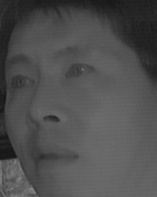eye: (61, 60, 96, 83), (5, 72, 36, 91)
mouth: (28, 139, 84, 176)
